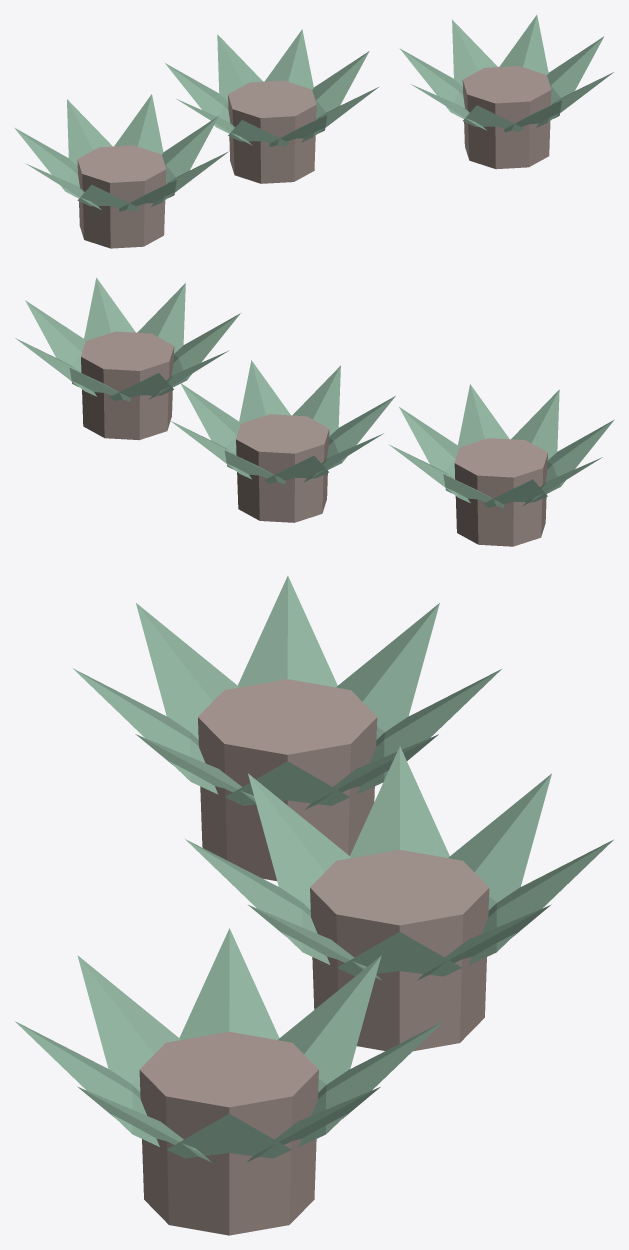
File: map-exclusive-v3__tide_14.glb
3 renders of one model, top to bottom at view 1: azimuth 30°, elevation 25°; view 2: azimuth 150°, elevation 25°; view 3: azimuth 270°, elevation 25°, orthographic. The views are drawn at different scales.
Parts seen in each view (by area): view 1: tide_14; view 2: tide_14; view 3: tide_14.
Boxes of the visible parts, x1,y1,x2,y2 form: tide_14: (14,15,613,248); tide_14: (15,277,614,546); tide_14: (15,576,613,1235).
Bounding box in the file's own units: 2.84 × 0.44 × 1.34.
